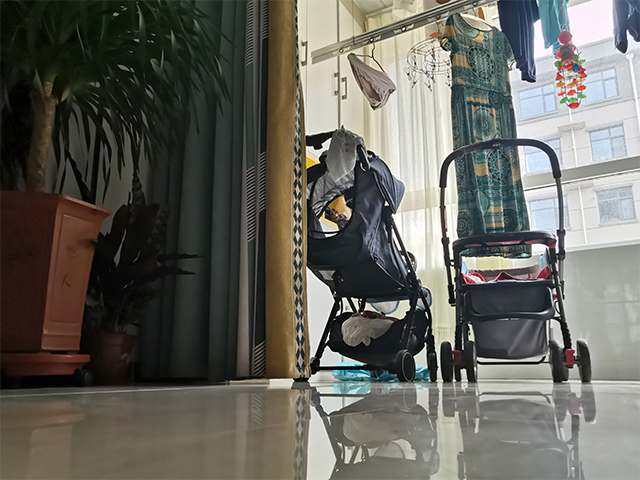curtain: (124, 1, 313, 382)
